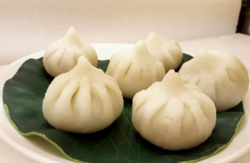modak: (42, 60, 123, 128), (139, 73, 215, 144), (175, 37, 250, 103), (38, 28, 106, 75), (110, 44, 170, 93)
